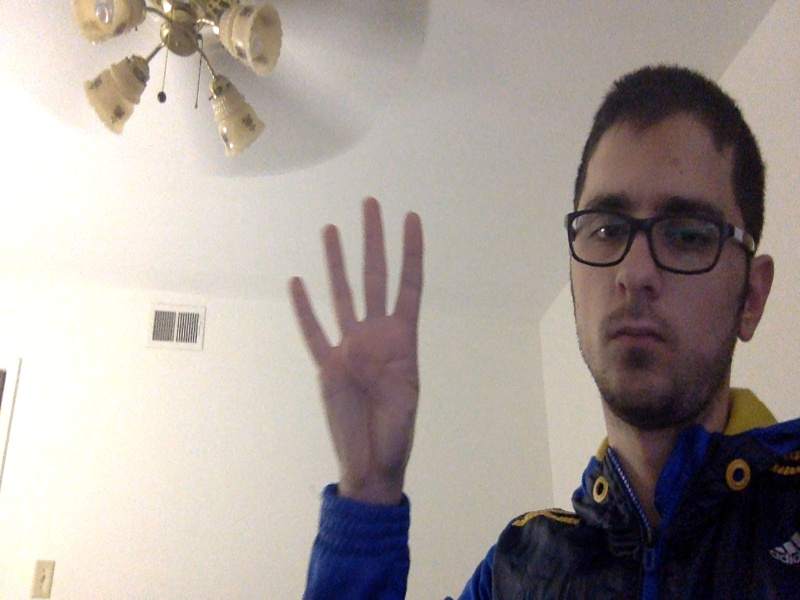4-hand: (284, 197, 426, 484)
